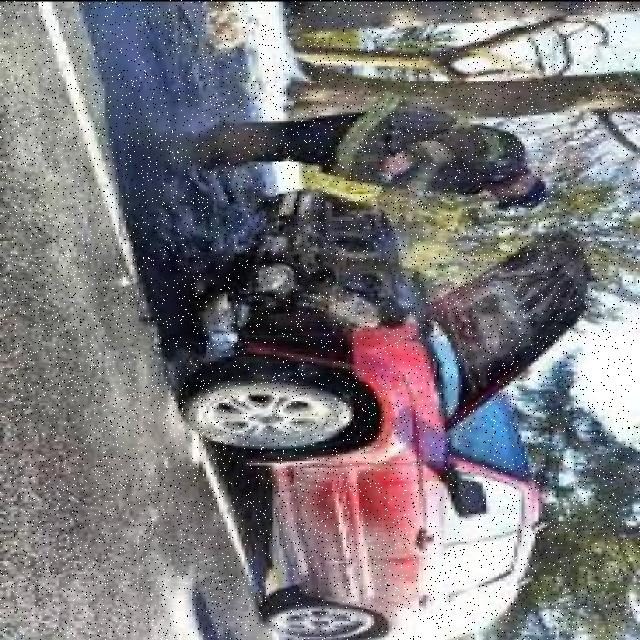damage: (238, 186, 409, 360)
